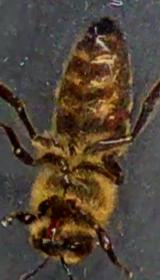varroa_mite: (102, 98, 136, 140)
